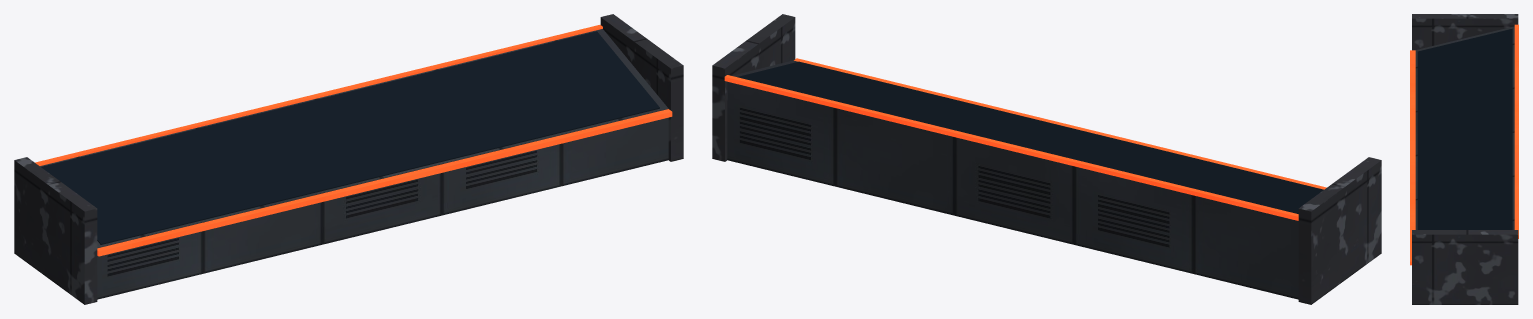
File: console_wide_e.glb
3 views of the same model, side by side, from view 1: azimuth 30°, elevation 25°; view 2: azimuth 150°, elevation 25°; view 3: azimuth 270°, elevation 25° (orthographic). The views are drawn at different scales.
Parts seen in each view (by area): view 1: console_wide_e; view 2: console_wide_e; view 3: console_wide_e.
Boxes of the visible parts, x1=… form: console_wide_e: x1=14, y1=14, x2=683, y2=304; console_wide_e: x1=712, y1=14, x2=1381, y2=304; console_wide_e: x1=1410, y1=14, x2=1518, y2=304.
Bounding box in the file's own units: 7.52 × 1.12 × 1.57.
Materials: 4 (4 with a texture image).
